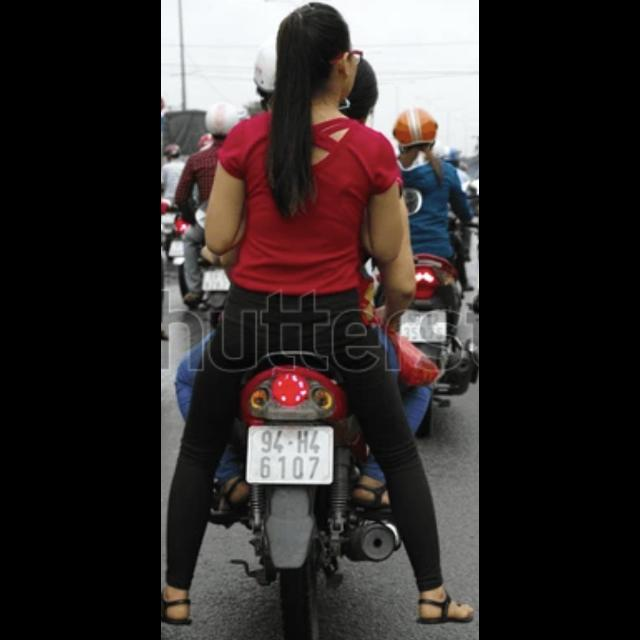with helmet: (392, 108, 440, 148)
without helmet: (276, 4, 362, 108), (342, 59, 378, 122)
